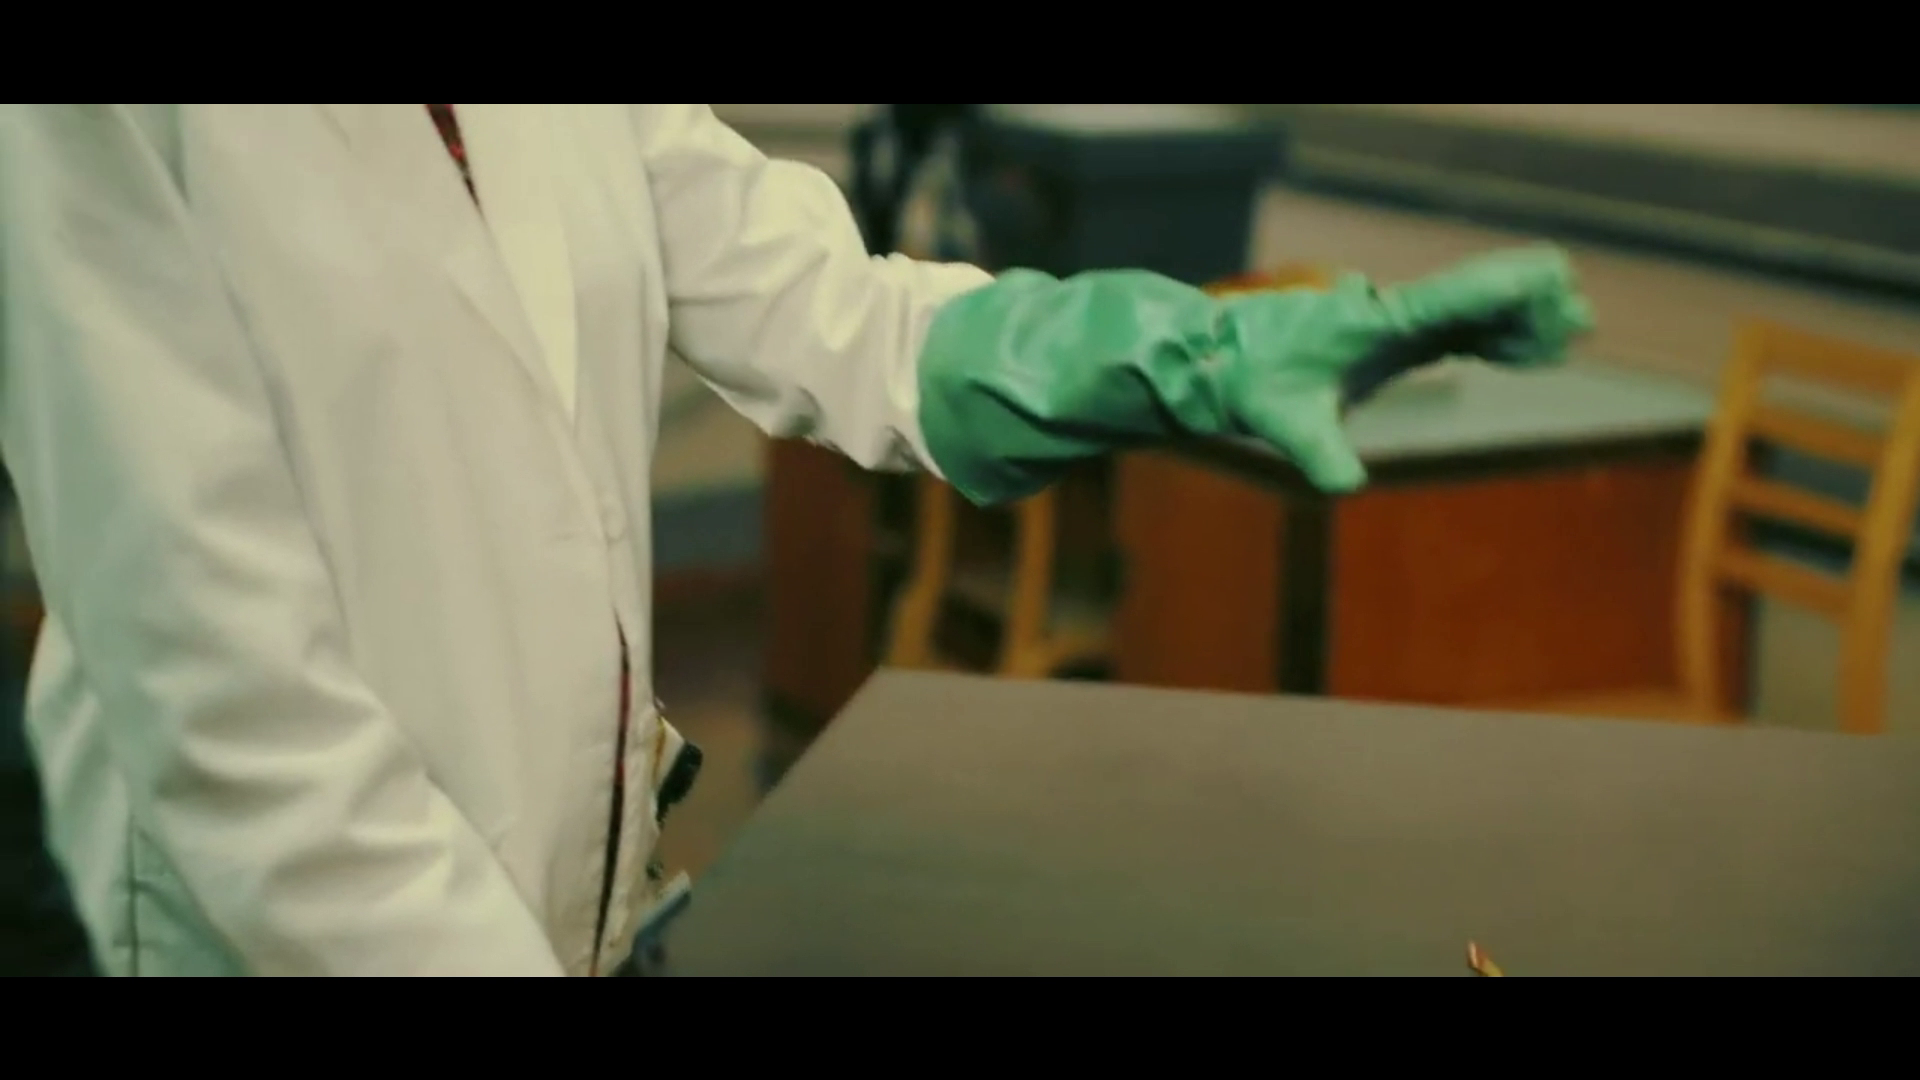Bullet: (1458, 942, 1506, 987)
